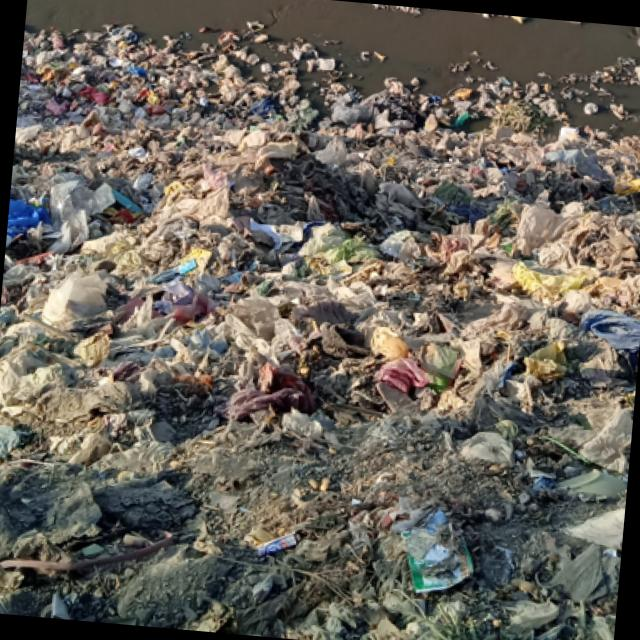electronic: (396, 523, 482, 599), (248, 531, 302, 559)
general: (581, 393, 634, 473), (41, 268, 108, 326), (374, 356, 426, 392)
